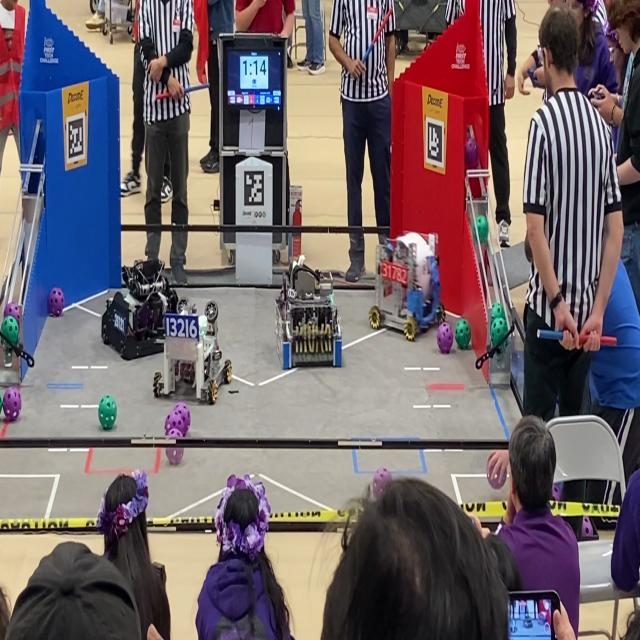artifact_green: (98, 396, 116, 430), (0, 316, 19, 346), (454, 318, 471, 350), (490, 317, 508, 347), (473, 214, 488, 244), (491, 302, 506, 321), (437, 303, 446, 325), (167, 428, 183, 440), (330, 293, 334, 306), (0, 397, 2, 411)
artifact_purple: (486, 457, 506, 490), (3, 387, 21, 421), (373, 468, 391, 498), (174, 403, 190, 436), (165, 409, 184, 436), (48, 287, 64, 317), (437, 323, 453, 353), (465, 137, 479, 169), (137, 304, 153, 329), (180, 362, 196, 385), (165, 447, 184, 465), (4, 302, 19, 322), (582, 517, 594, 539), (553, 483, 562, 501)
